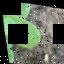Purslane: (0, 0, 46, 64)
